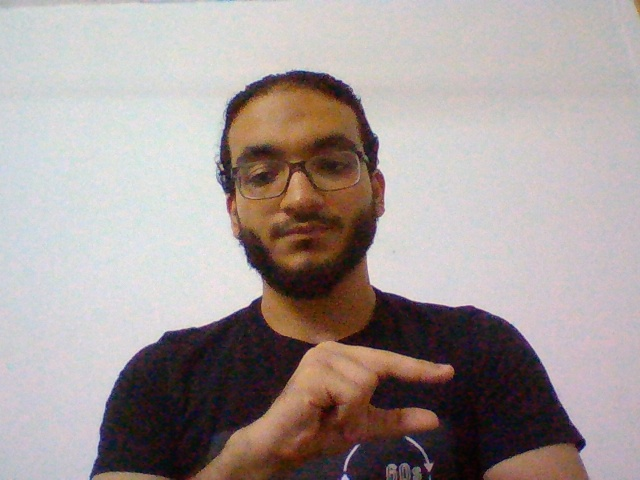No: (257, 343, 467, 458)
